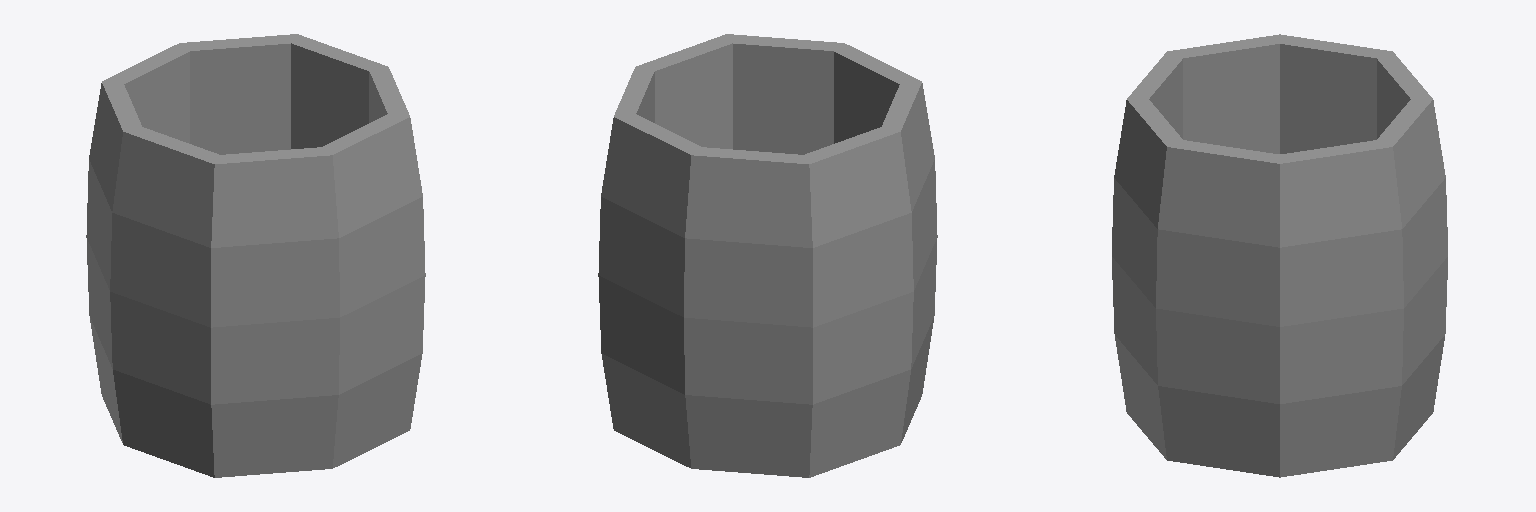
File: barrel.obj
3 views of the same model, side by side, from view 1: azimuth 30°, elevation 25°; view 2: azimuth 150°, elevation 25°; view 3: azimuth 270°, elevation 25° (orthographic).
Visible parts, largest first — view 1: Cube; view 2: Cube; view 3: Cube.
Boxes of the visible parts, <box> form: Cube: <box>86,34,425,477</box>; Cube: <box>598,34,937,477</box>; Cube: <box>1112,34,1447,477</box>.
Bounding box in the file's own units: 0.8153 × 0.8377 × 0.8153.